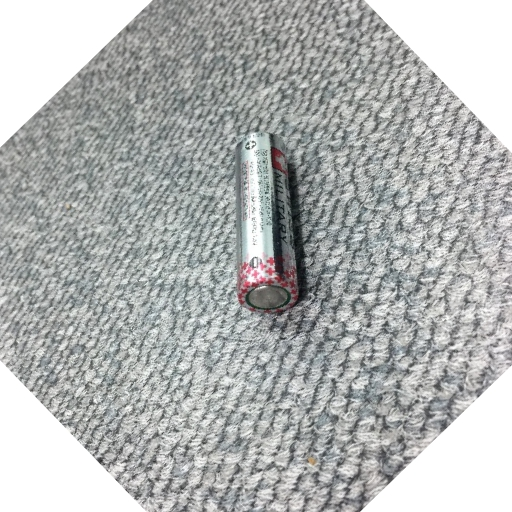Battery_0: (227, 122, 312, 320)
